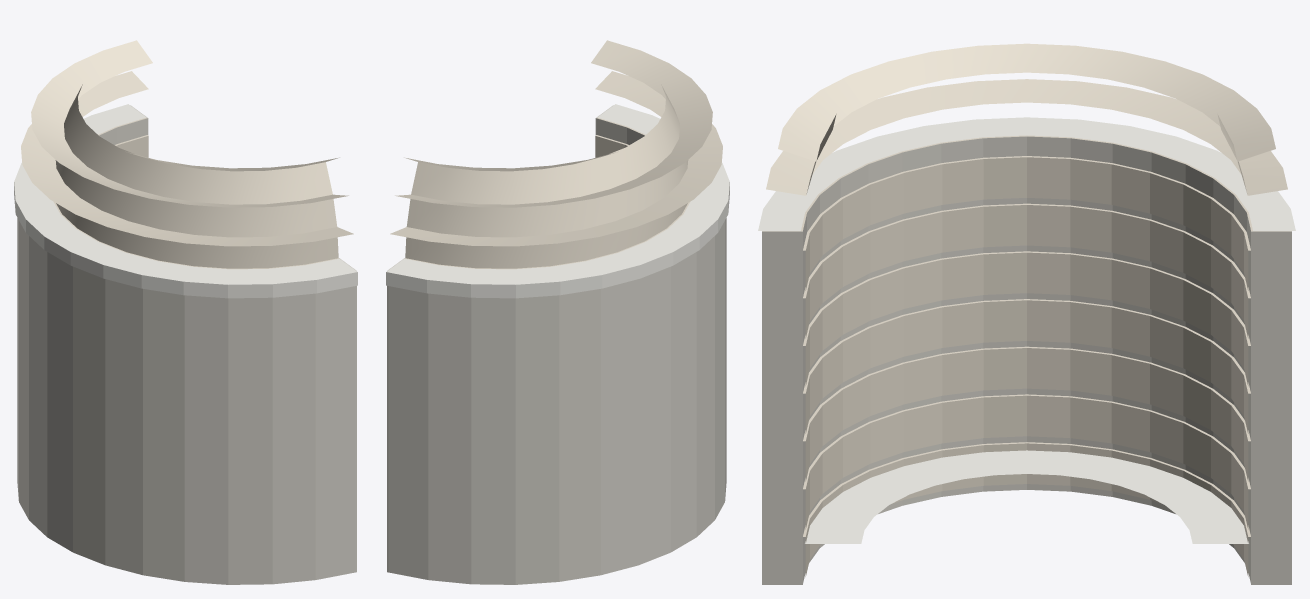
Rendered from roman-bathhouse-and-palaestra-caldarium-apse-section-4ca8afa5__37873.glb.
The picture shows the model from 3 angles, left to right: view 1: azimuth 30°, elevation 25°; view 2: azimuth 150°, elevation 25°; view 3: azimuth 270°, elevation 25°; orthographic projection. The views are drawn at different scales.
Visible parts, largest first — view 1: caldarium-apse-section; view 2: caldarium-apse-section; view 3: caldarium-apse-section.
Part boxes in pixels (box(x1,y1,x2,y2)): caldarium-apse-section: box(14, 40, 357, 584); caldarium-apse-section: box(386, 40, 729, 584); caldarium-apse-section: box(758, 43, 1295, 584).
Size of the model in its own units: 2.77 by 5.36 by 5.52.
